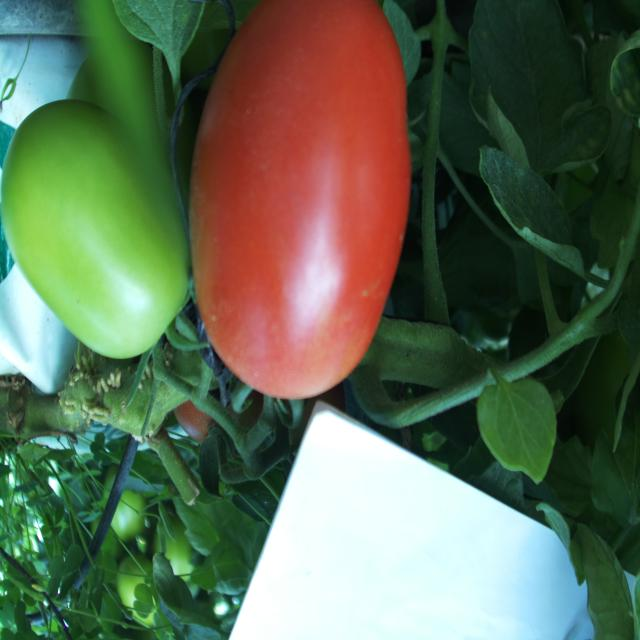kirmizi: (183, 6, 428, 453)
yesil: (1, 65, 192, 368)
